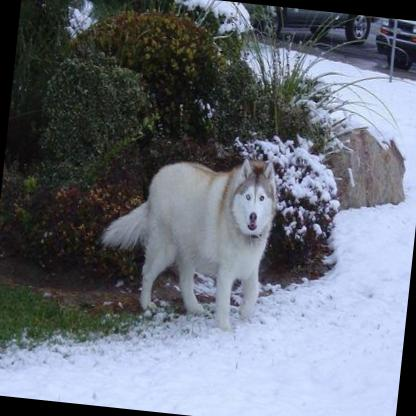Siberian_husky: (93, 142, 279, 335)
